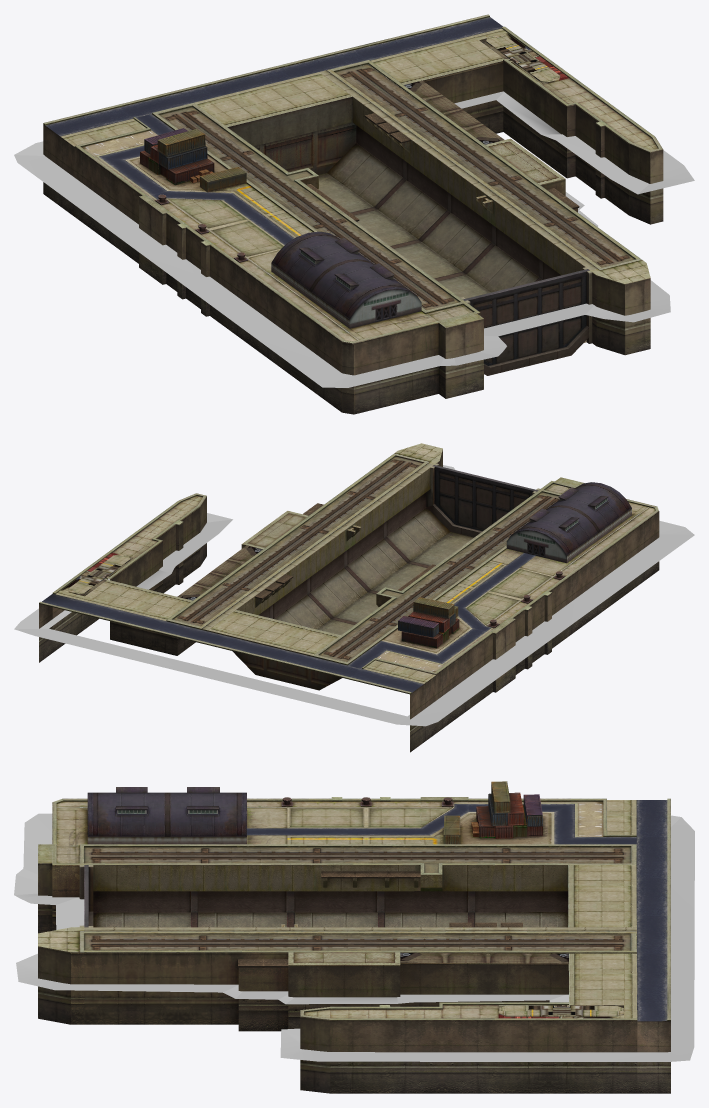
Rendered from Dhz_Dock_01.FBX.
3 views of the same model, one above another, from view 1: azimuth 30°, elevation 25°; view 2: azimuth 150°, elevation 25°; view 3: azimuth 270°, elevation 25° (orthographic). The views are drawn at different scales.
Visible parts, largest first — view 1: Dhz_shipyard_01, Dhz_shipyard_01_wave; view 2: Dhz_shipyard_01, Dhz_shipyard_01_wave; view 3: Dhz_shipyard_01, Dhz_shipyard_01_wave.
Part boxes in pixels (bbox=[...]): Dhz_shipyard_01: bbox=[43, 14, 663, 414]; Dhz_shipyard_01_wave: bbox=[14, 67, 694, 387]; Dhz_shipyard_01: bbox=[39, 443, 659, 752]; Dhz_shipyard_01_wave: bbox=[14, 465, 694, 726]; Dhz_shipyard_01: bbox=[38, 781, 670, 1093]; Dhz_shipyard_01_wave: bbox=[14, 813, 694, 1061].
Bounding box in the file's own units: 343 × 73.43 × 397.
